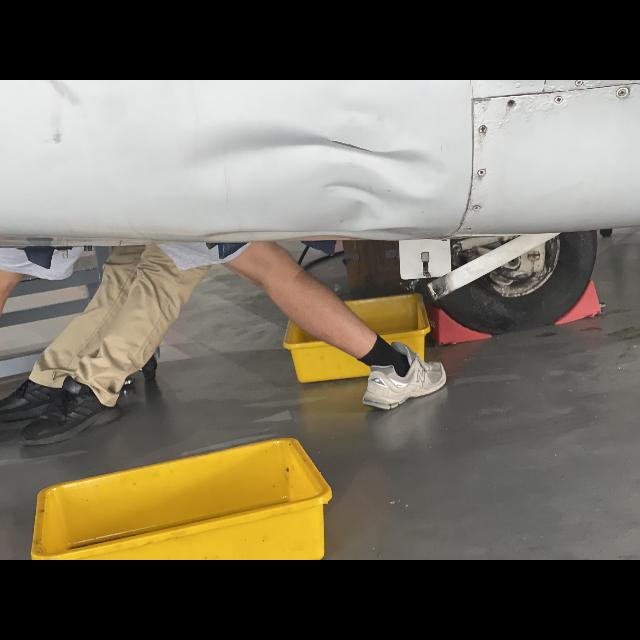dent: (184, 104, 450, 228)
